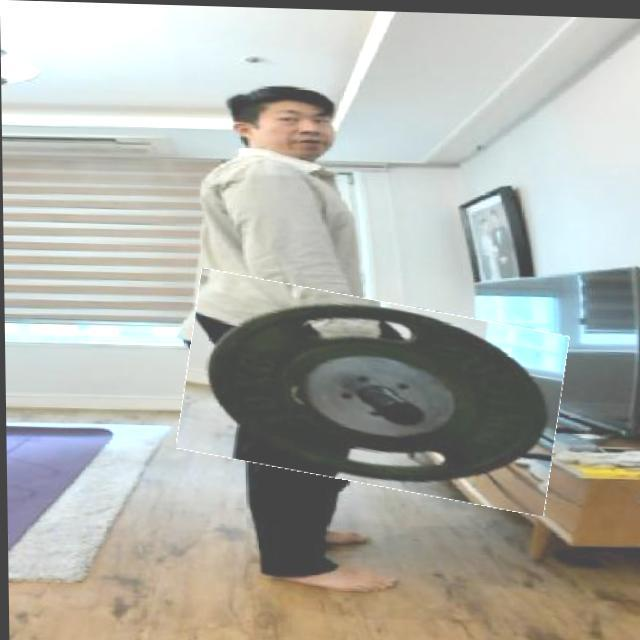barbell: (180, 281, 566, 501)
